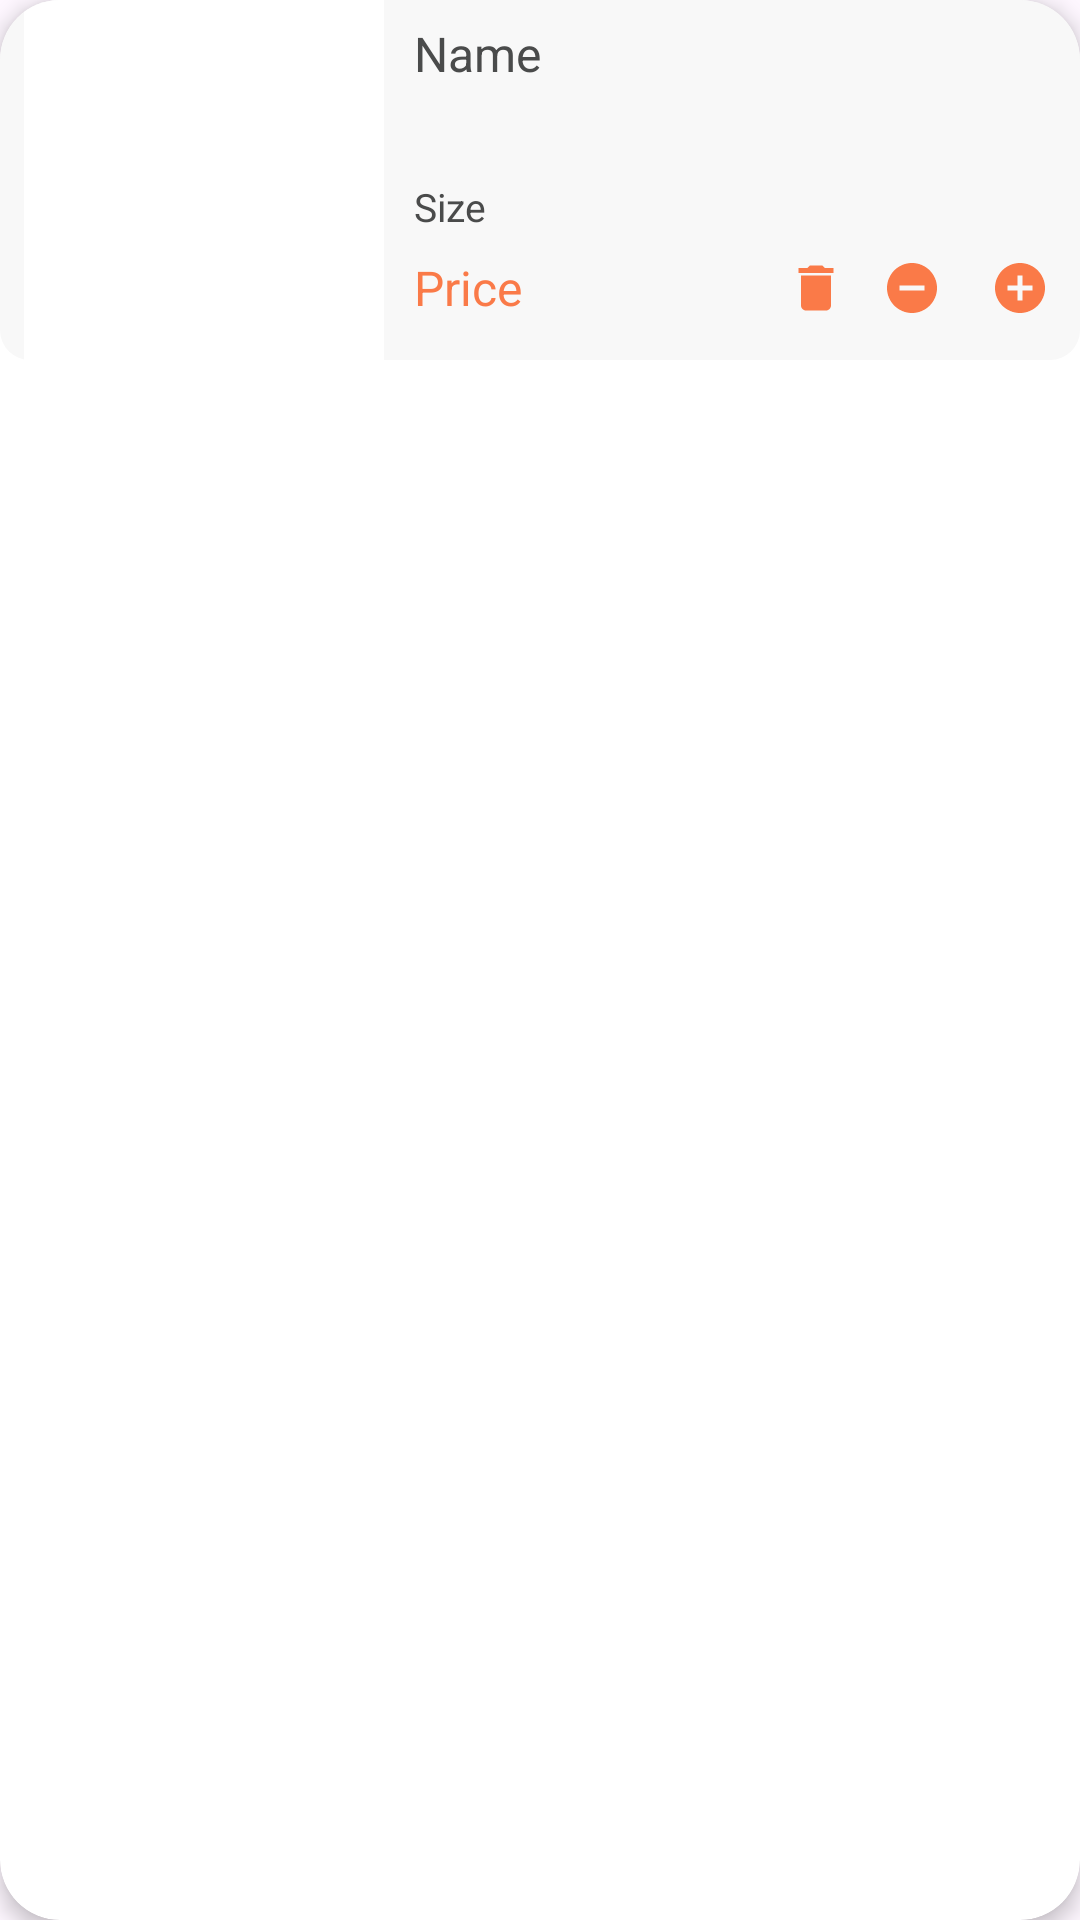

Locate icon controls on the screen. Image size 1080 × 1920, boxes as (x1, y1, x2, y2).
add circle: (995, 263, 1045, 313)
delete: (798, 265, 834, 311)
remove circle: (887, 263, 937, 313)
